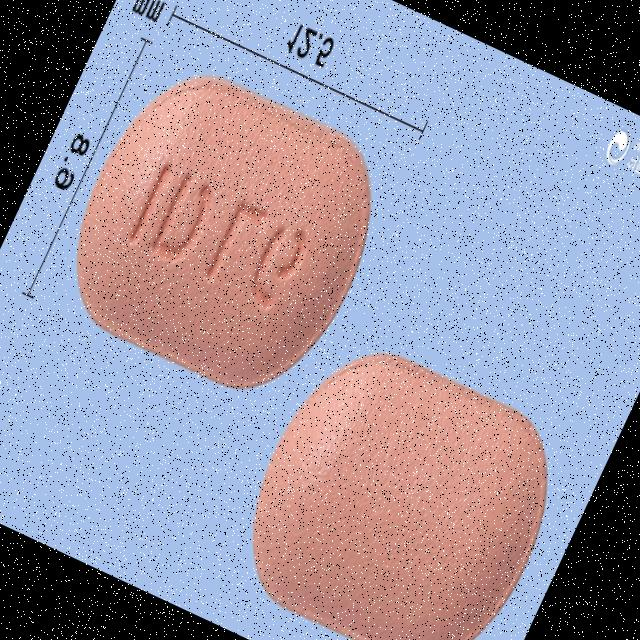Levofexin - 500mg: (41, 48, 410, 417), (214, 327, 582, 640)
